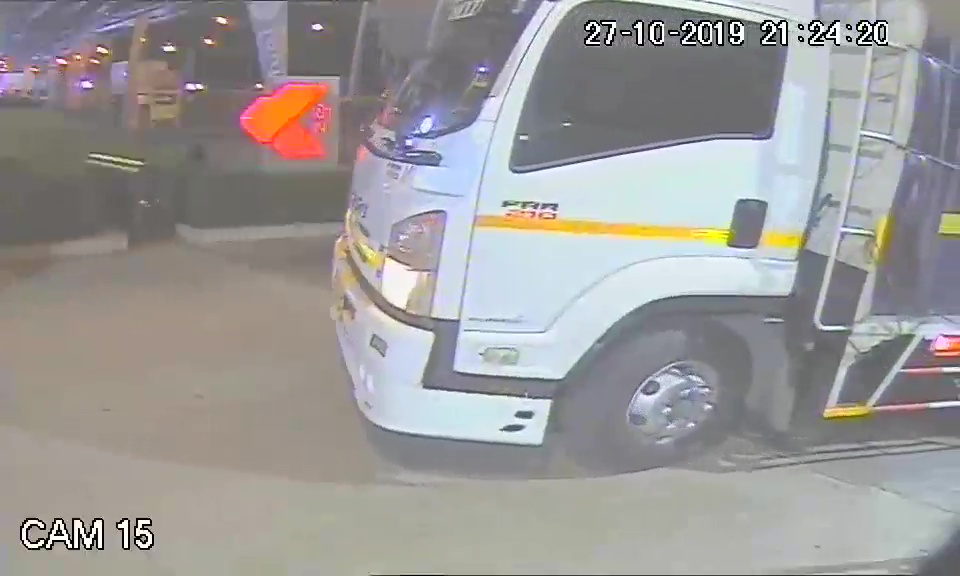truck: (326, 1, 834, 463)
